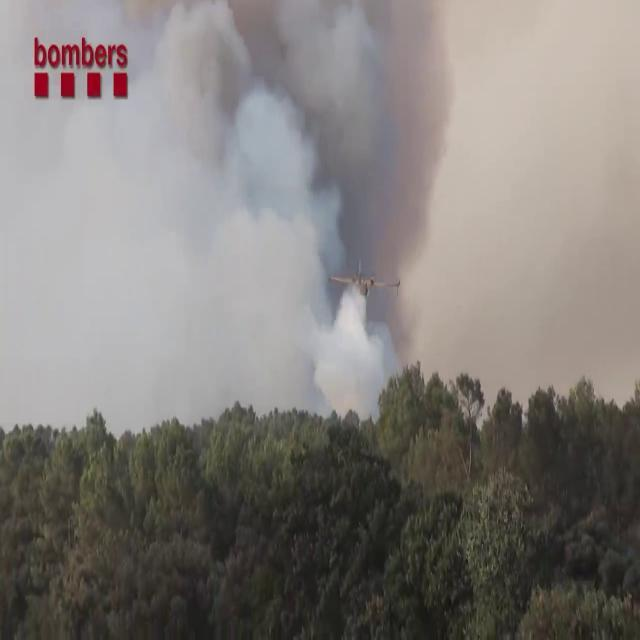Smoke: (1, 1, 454, 436)
